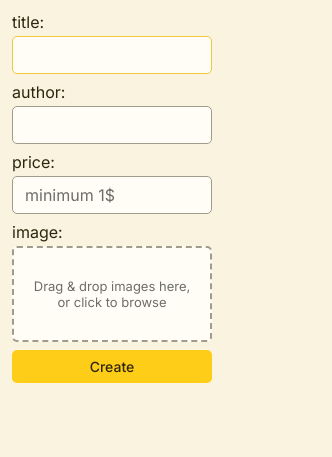
Test: CreateBookForm › показывает ошибку валидации при пустом title
Click the button "Create" at (112, 366), box [12, 350, 212, 383]
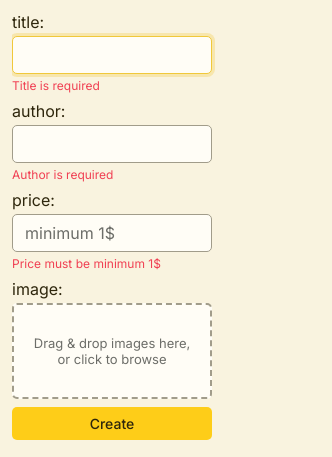
Now the text "Title is required" is shown, box [12, 78, 100, 93]
